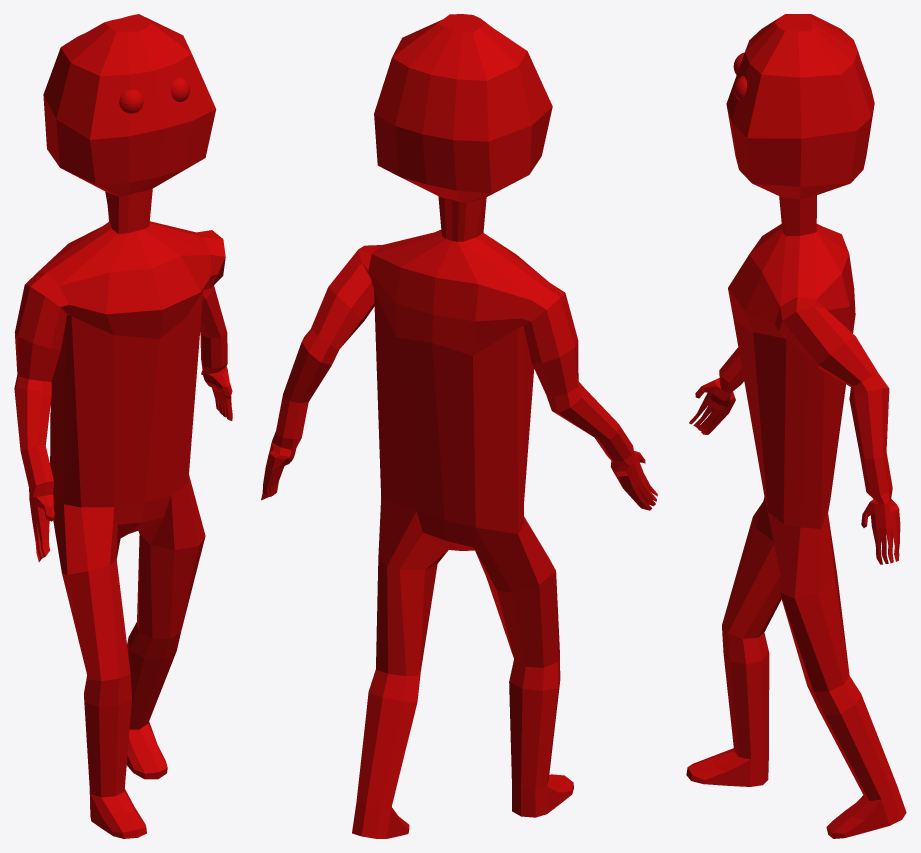
The model's file is Ulises_walking.obj.
The picture shows the model from 3 angles, left to right: view 1: azimuth 30°, elevation 25°; view 2: azimuth 150°, elevation 25°; view 3: azimuth 270°, elevation 25°; orthographic projection. The views are drawn at different scales.
Parts seen in each view (by area): view 1: Cubo.002; view 2: Cubo.002; view 3: Cubo.002.
Boxes of the visible parts, x1,y1,x2,y2 form: Cubo.002: [14, 14, 232, 838]; Cubo.002: [261, 14, 657, 838]; Cubo.002: [686, 14, 906, 838].
Size of the model in its own units: 0.6351 by 1.65 by 0.4178.
